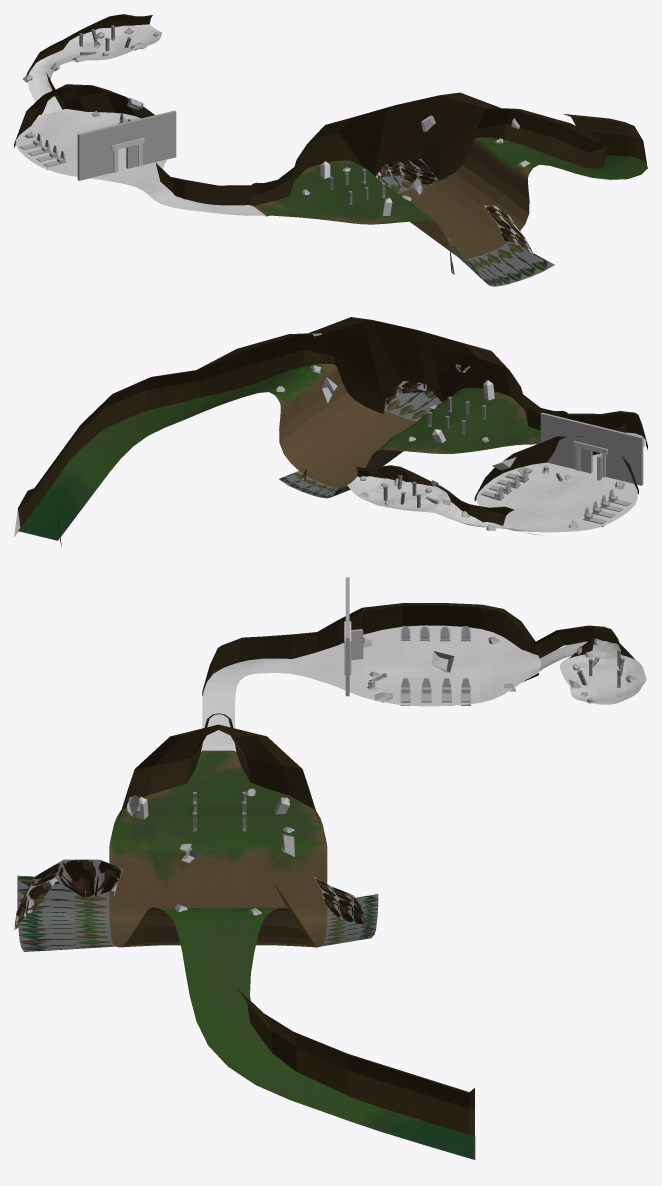
The model's file is Tutorial.fbx.
The picture shows the model from 3 angles, top to bottom: view 1: azimuth 30°, elevation 25°; view 2: azimuth 150°, elevation 25°; view 3: azimuth 270°, elevation 25°; orthographic projection. The views are drawn at different scales.
Parts seen in each view (by area): view 1: Bridge_1, Bridge_1_Celling, Waiting_Room_Door, Waiting_Room_Door1, Door_Wall, Ceremony_Hall, Ceremony_Hall_Roof, Door_Frame; view 2: Bridge_1, Bridge_1_Celling, Waiting_Room_Door, Door_Wall, Ceremony_Hall, Waiting_Room_Door1, Ceremony_Hall_Roof, Door, Door_Frame; view 3: Bridge_1, Bridge_1_Celling, Waiting_Room_Door, Waiting_Room_Door1, Ceremony_Hall, Ceremony_Hall_Roof.
Boxes of the visible parts, x1,y1,x2,y2 form: Bridge_1: (254, 137, 647, 286); Bridge_1_Celling: (250, 92, 646, 274); Waiting_Room_Door: (15, 109, 267, 216); Waiting_Room_Door1: (14, 84, 256, 205); Door_Wall: (77, 110, 176, 180); Ceremony_Hall: (28, 24, 161, 113); Ceremony_Hall_Roof: (26, 14, 152, 108); Door_Frame: (111, 138, 144, 172); Bridge_1: (18, 364, 540, 540); Bridge_1_Celling: (14, 317, 567, 546); Waiting_Room_Door: (476, 432, 646, 532); Door_Wall: (540, 412, 643, 485); Ceremony_Hall: (347, 476, 522, 531); Waiting_Room_Door1: (474, 410, 647, 535); Ceremony_Hall_Roof: (356, 465, 514, 525); Door: (580, 448, 602, 480); Door_Frame: (573, 441, 607, 477); Bridge_1: (17, 750, 475, 1159); Bridge_1_Celling: (14, 724, 474, 1135); Waiting_Room_Door: (201, 625, 541, 751); Waiting_Room_Door1: (201, 603, 538, 749); Ceremony_Hall: (540, 641, 646, 704); Ceremony_Hall_Roof: (534, 625, 634, 659).
Bounding box in the file's own units: 94.37 × 32.62 × 71.07.
